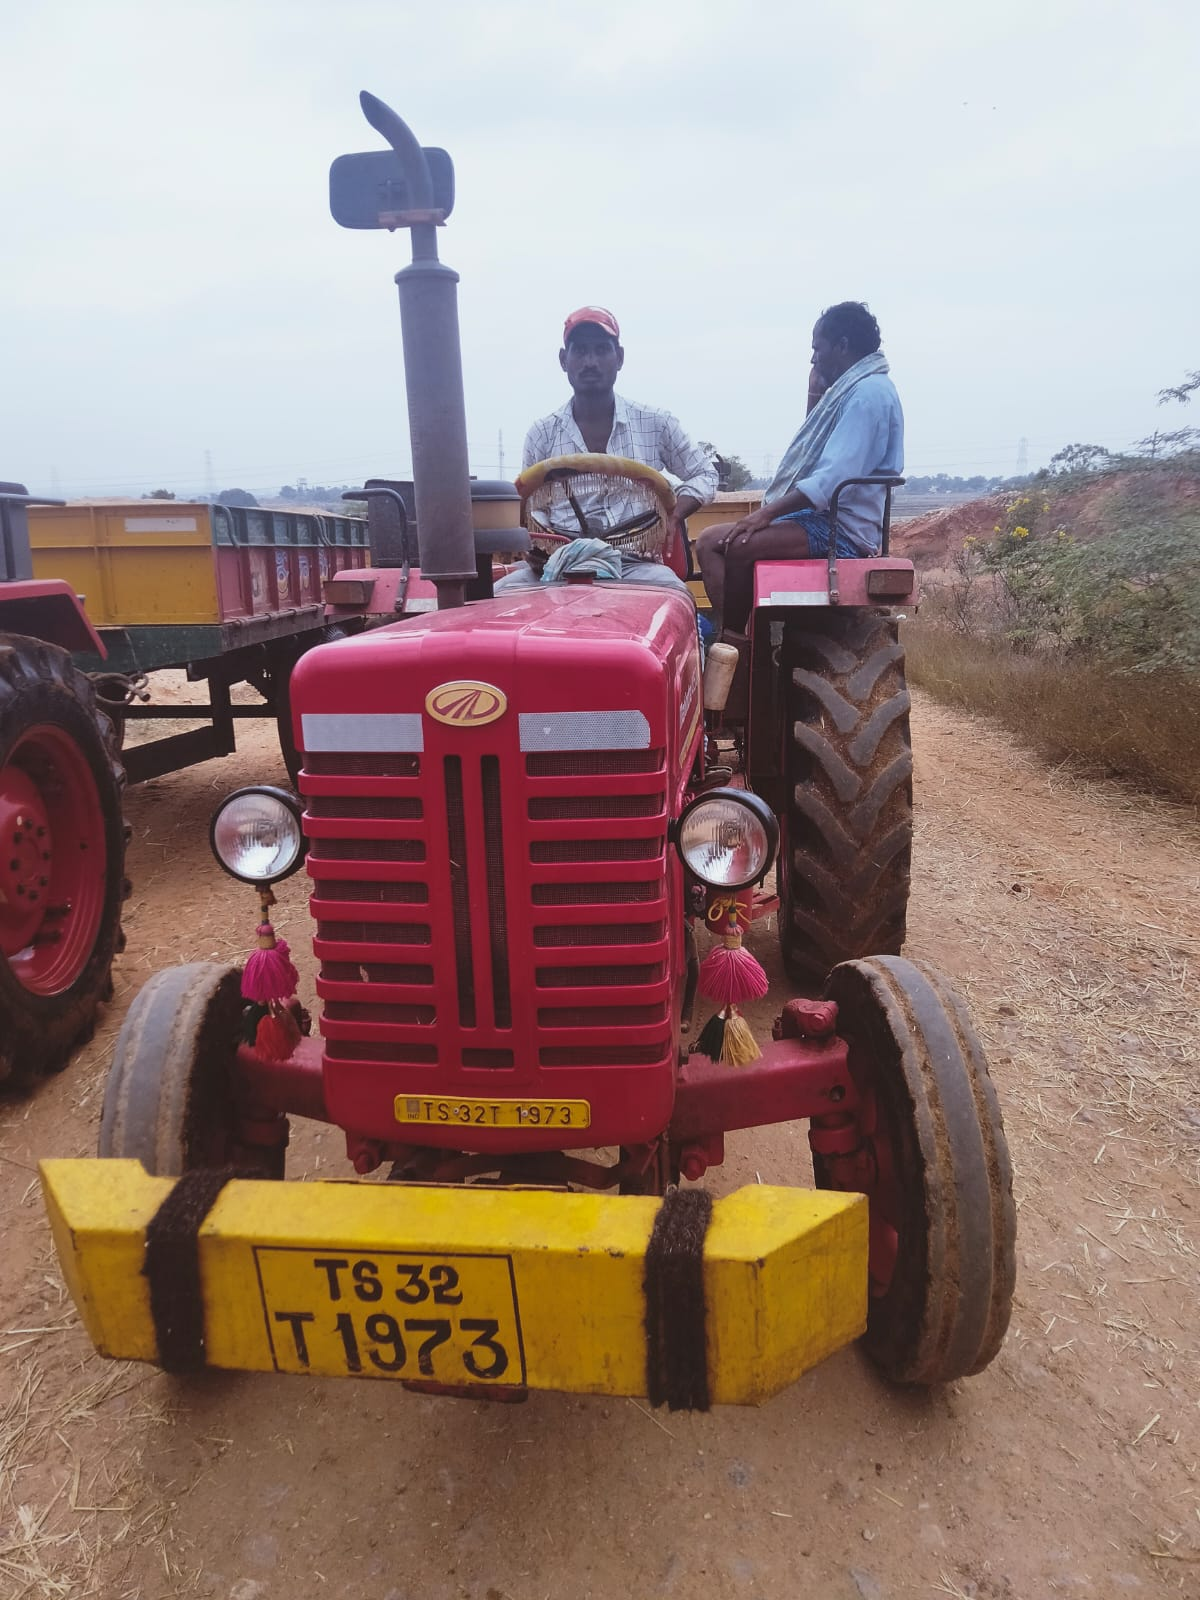license_plate: (249, 1243, 539, 1399)
